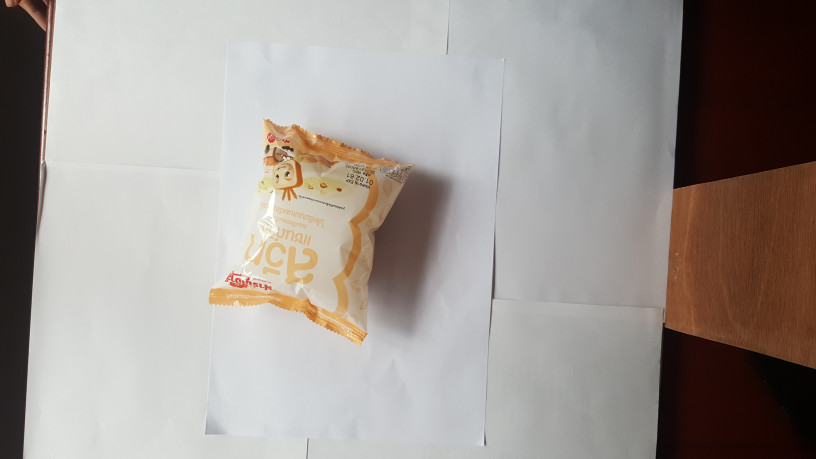farmhouse-sweetsandwich-almond: (197, 112, 413, 345)
